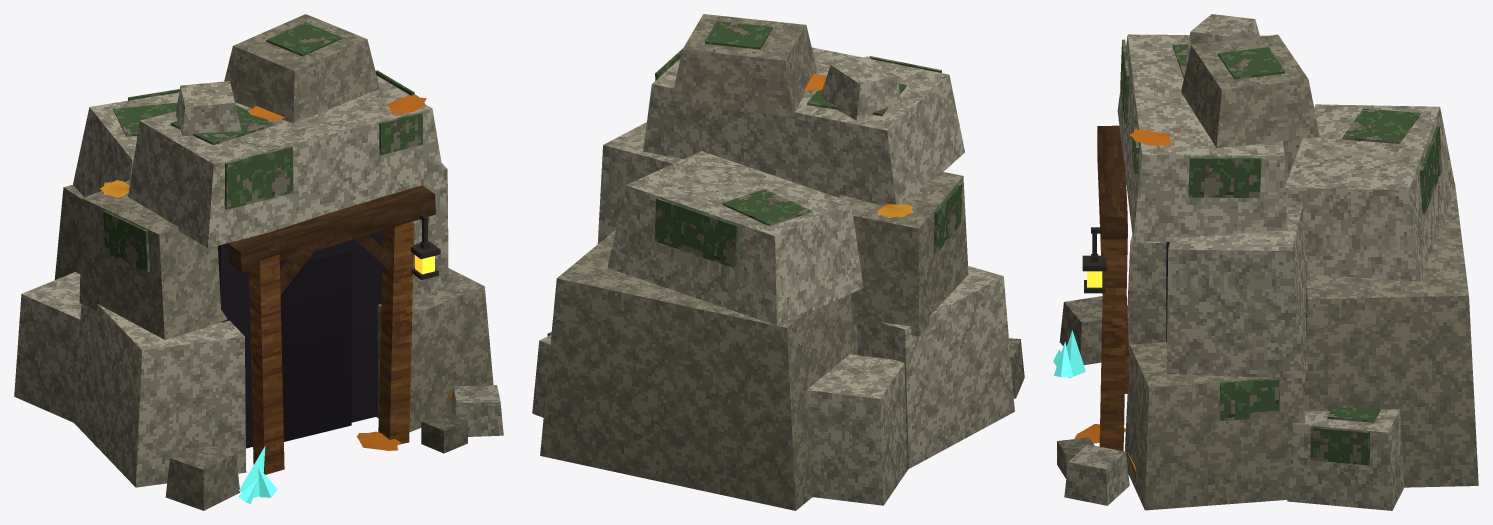
The model's file is cave_entrance.glb.
3 views of the same model, side by side, from view 1: azimuth 30°, elevation 25°; view 2: azimuth 150°, elevation 25°; view 3: azimuth 270°, elevation 25° (orthographic). The views are drawn at different scales.
Parts seen in each view (by area): view 1: cave_entrance; view 2: cave_entrance; view 3: cave_entrance.
Boxes of the visible parts, x1,y1,x2,y2 form: cave_entrance: (14, 14, 503, 510); cave_entrance: (532, 14, 1024, 510); cave_entrance: (1053, 14, 1478, 510).
Size of the model in its own units: 3.67 by 3.53 by 3.56.
Materials: 15 (6 with a texture image).
